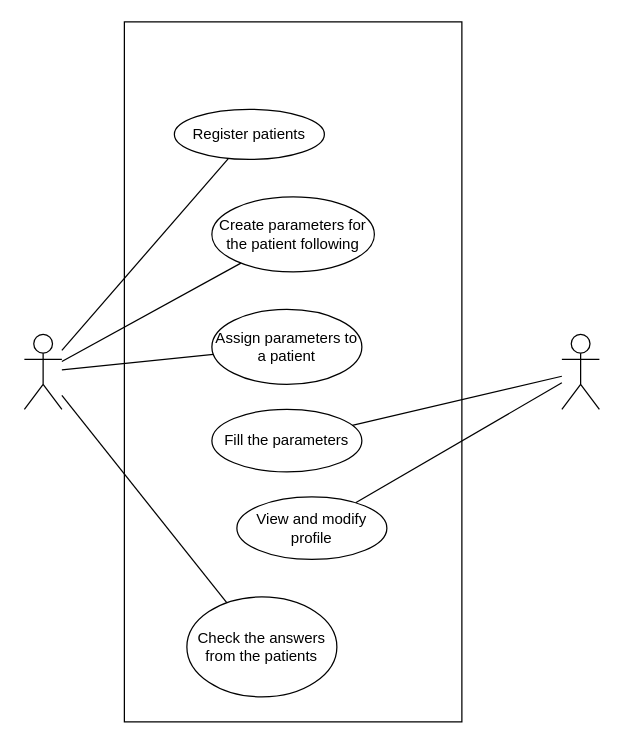
Some shapes in this 625 by 744 pixel diagram are drawn without their labels. Each missing label, with the box of its shape:
Doctor: (23, 333, 62, 409)
Patient: (561, 333, 599, 409)
